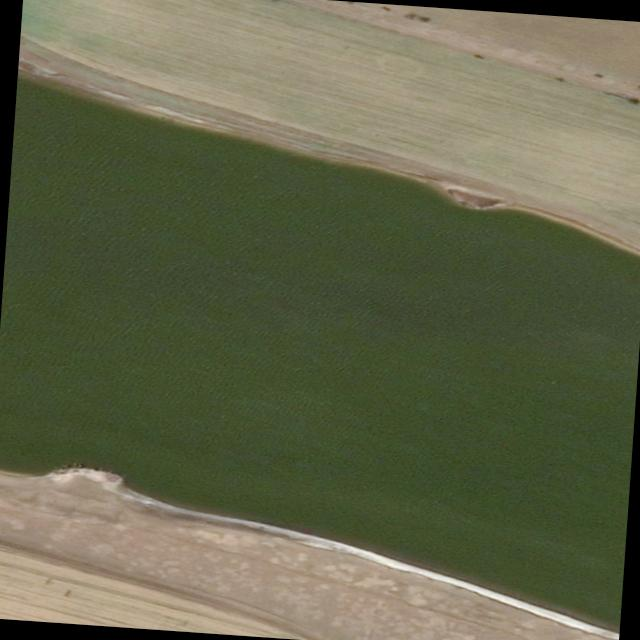bare-soil: (18, 0, 640, 255), (0, 472, 619, 640)
water: (0, 68, 640, 636)
